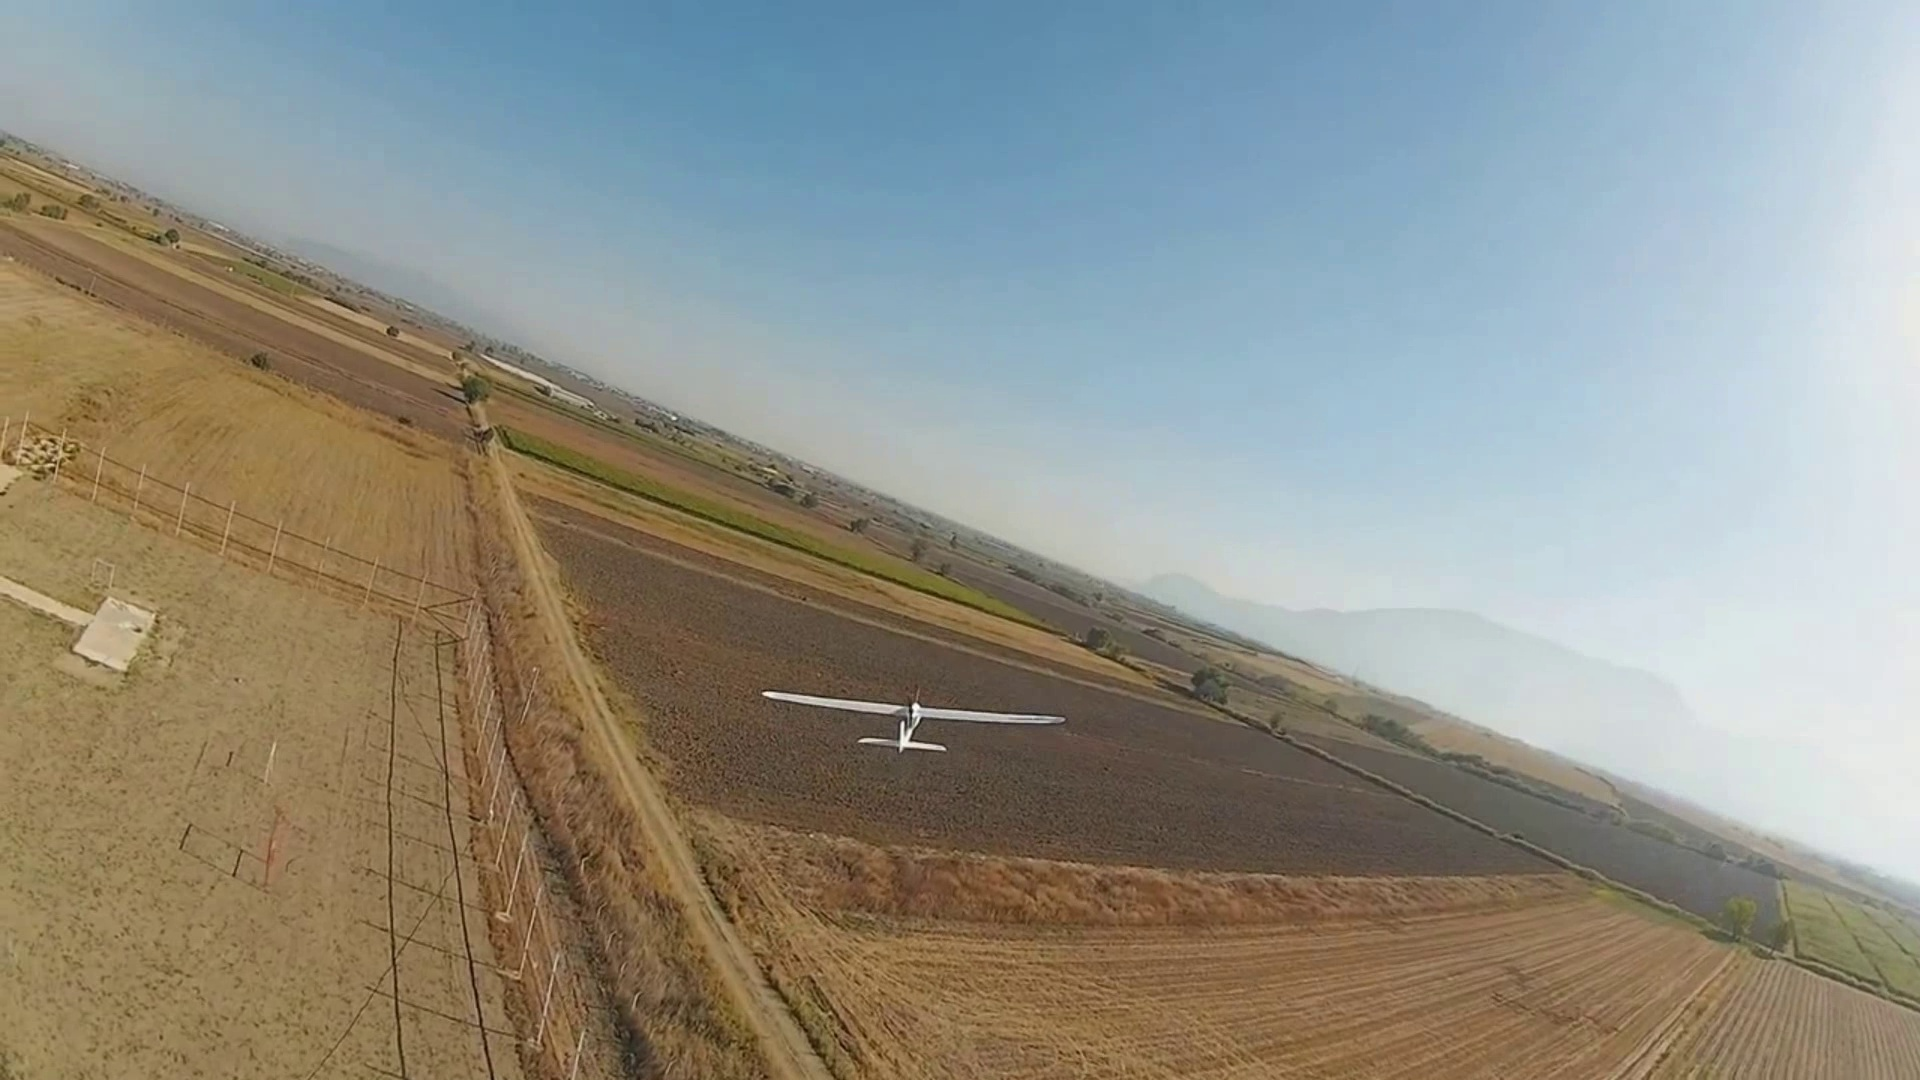airplane: (355, 294, 1919, 1010)
